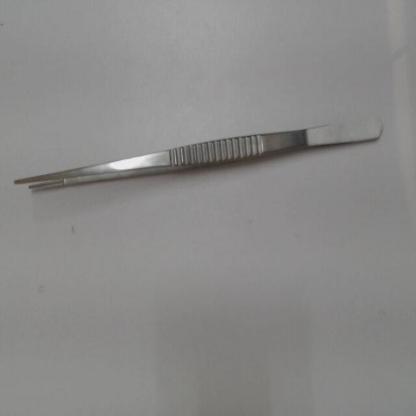DeBakey Dissector: (5, 97, 400, 209)
